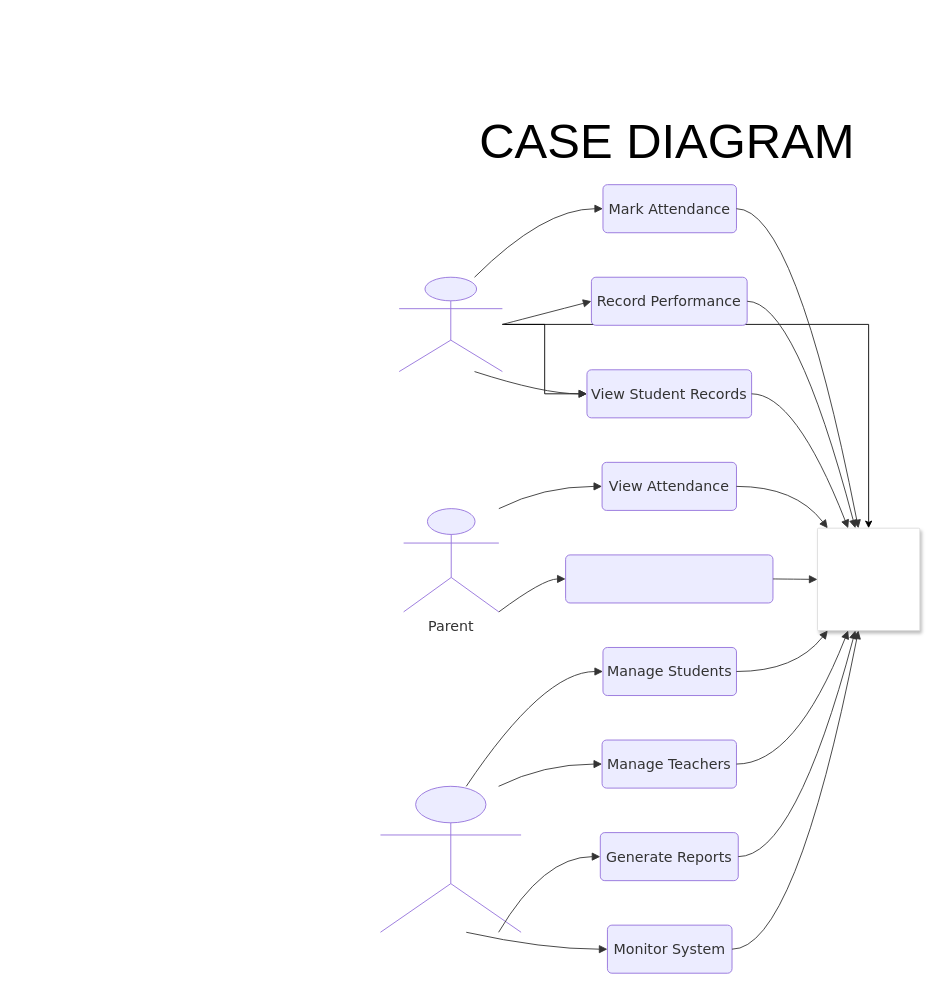
This 941x989 diagram has some shape labels left out. Each missing label, with the centre of its shape:
"Administrator" goes at (450,858).
"EduTrack SL" goes at (869,580).
"Teacher" goes at (450,324).
"View Academic Performance" goes at (669,578).
